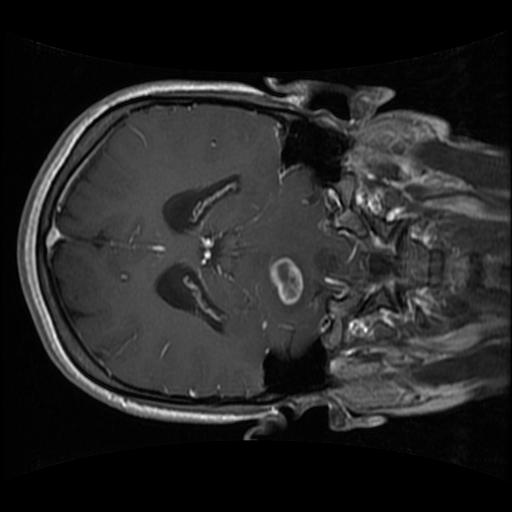glioma: (265, 254, 309, 315)
